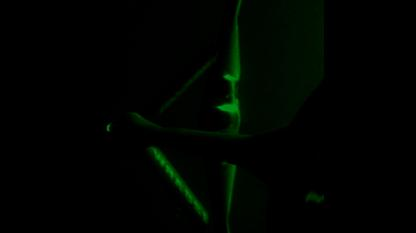B1: (196, 0, 256, 232)
